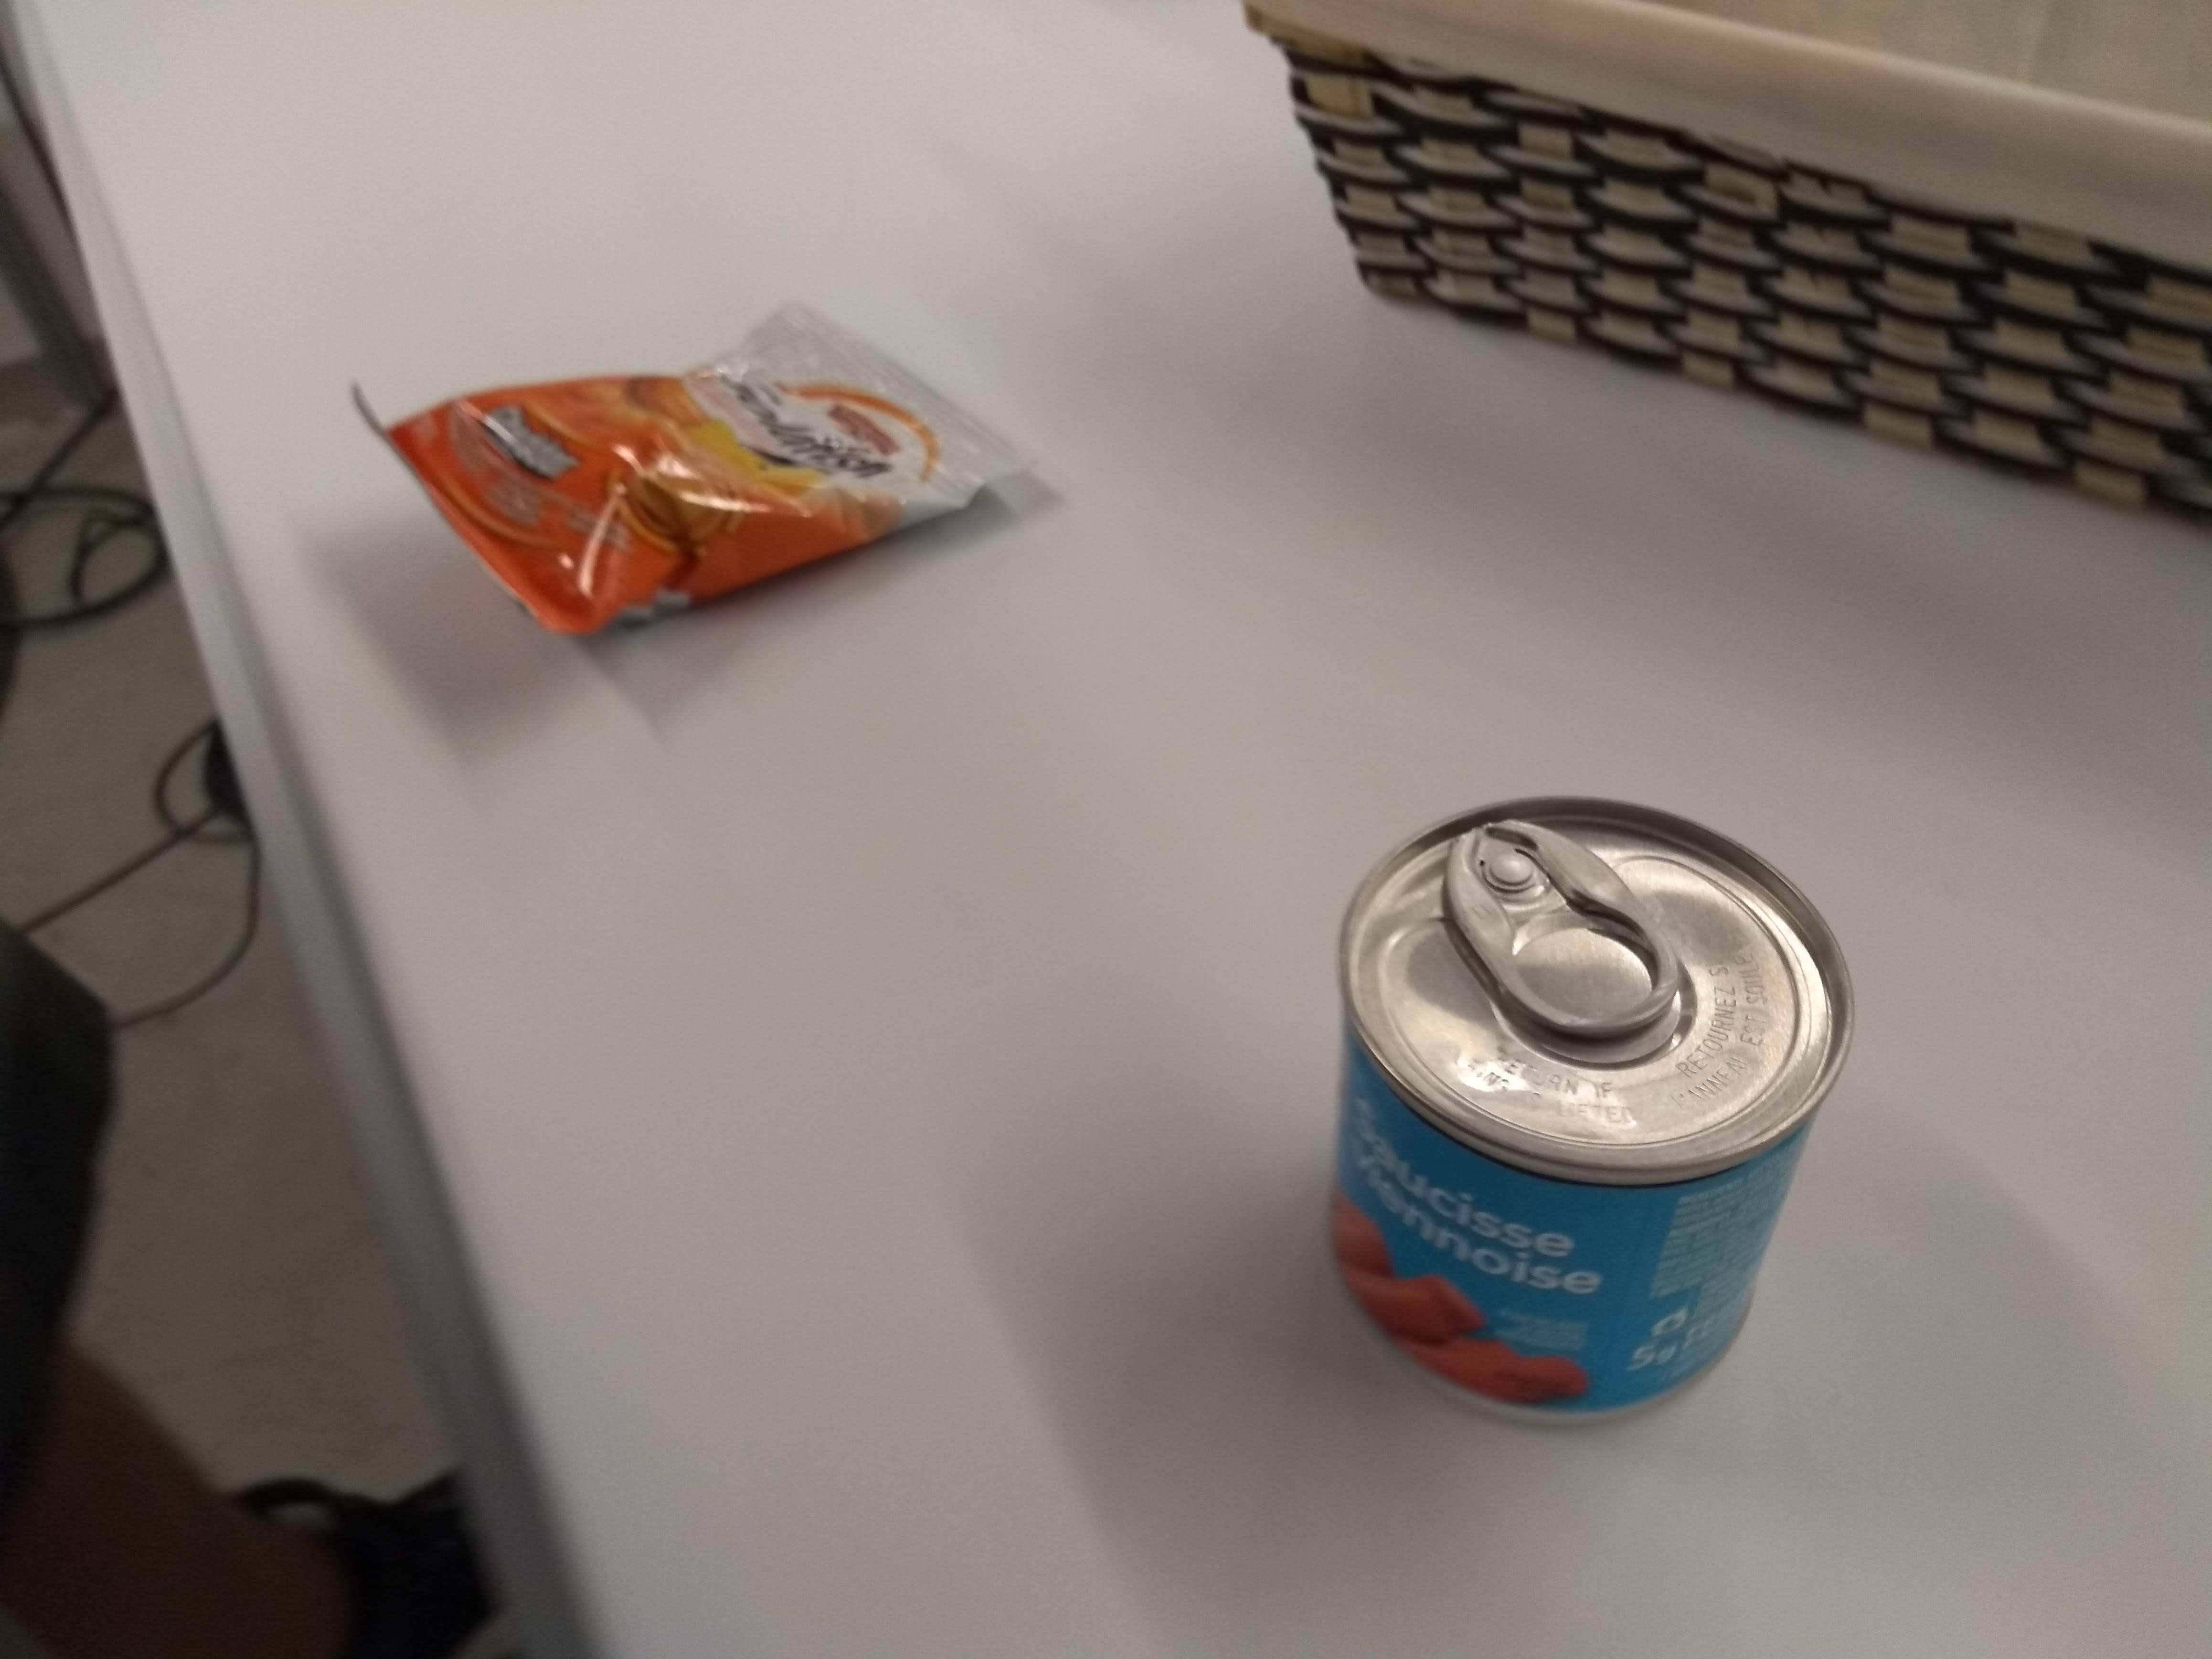crackers: (338, 289, 1073, 652)
sausages: (1310, 777, 1862, 1434)
